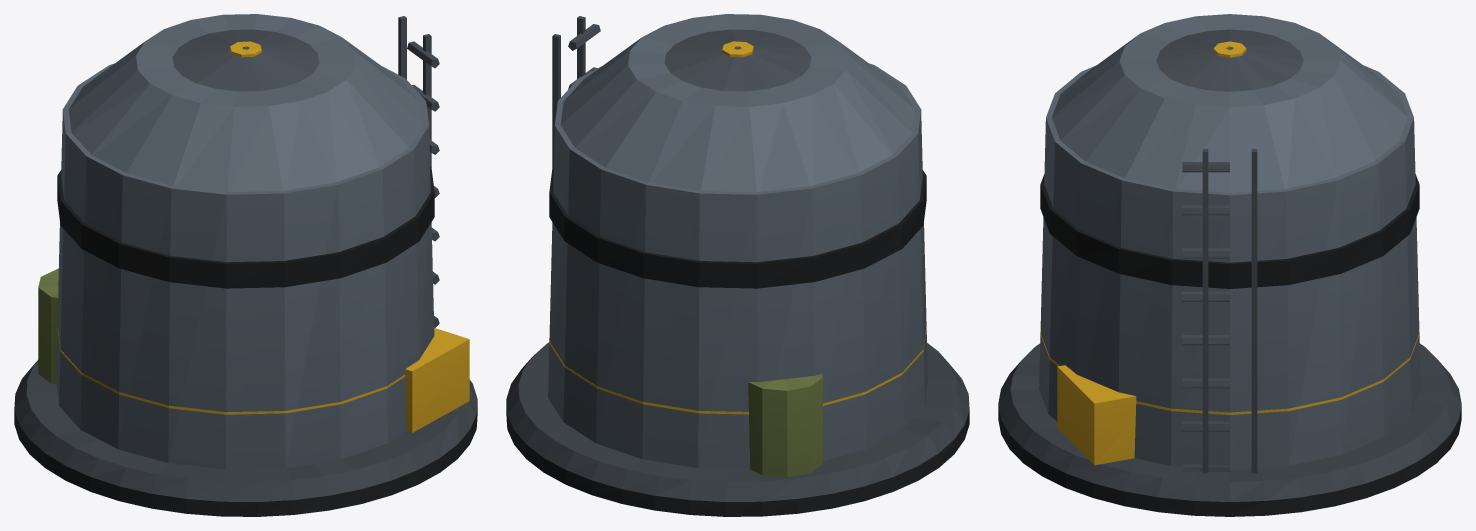
The model's file is outpost-silo.glb.
The picture shows the model from 3 angles, left to right: view 1: azimuth 30°, elevation 25°; view 2: azimuth 150°, elevation 25°; view 3: azimuth 270°, elevation 25°; orthographic projection.
Size of the model in its own units: 3.4 by 3 by 3.4.
